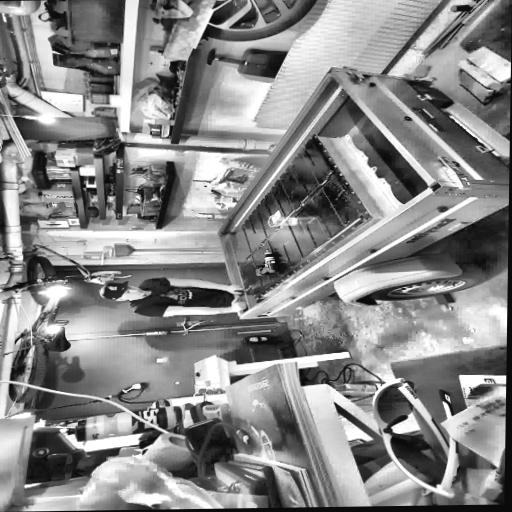b_casing: (232, 132, 374, 302)
